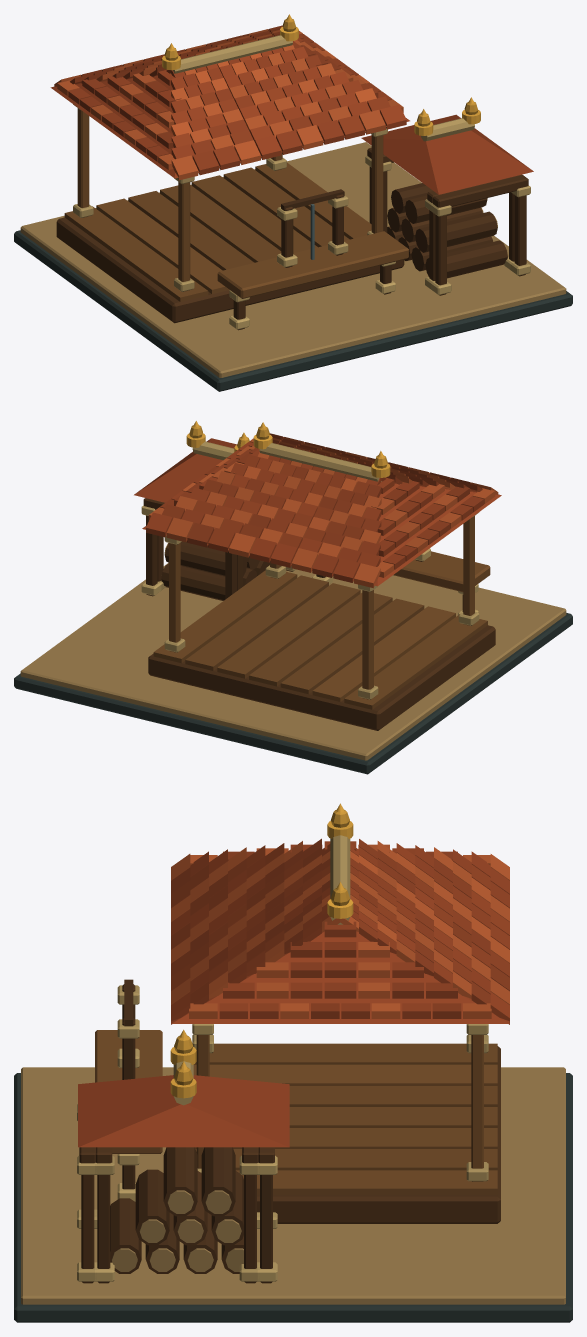
The picture shows the model from 3 angles, top to bottom: view 1: azimuth 30°, elevation 25°; view 2: azimuth 150°, elevation 25°; view 3: azimuth 270°, elevation 25°; orthographic projection. The views are drawn at different scales.
Visible parts, largest first — view 1: lumber_4_structure, lumber_4_metal; view 2: lumber_4_structure, lumber_4_metal; view 3: lumber_4_structure, lumber_4_metal.
Boxes of the visible parts, bbox=[...] form: lumber_4_structure: bbox=[14, 19, 572, 391]; lumber_4_metal: bbox=[162, 14, 480, 135]; lumber_4_structure: bbox=[14, 425, 572, 774]; lumber_4_metal: bbox=[186, 421, 390, 477]; lumber_4_structure: bbox=[14, 809, 572, 1322]; lumber_4_metal: bbox=[170, 803, 353, 1098].
Size of the model in its own units: 5.6 by 3.68 by 5.6.
